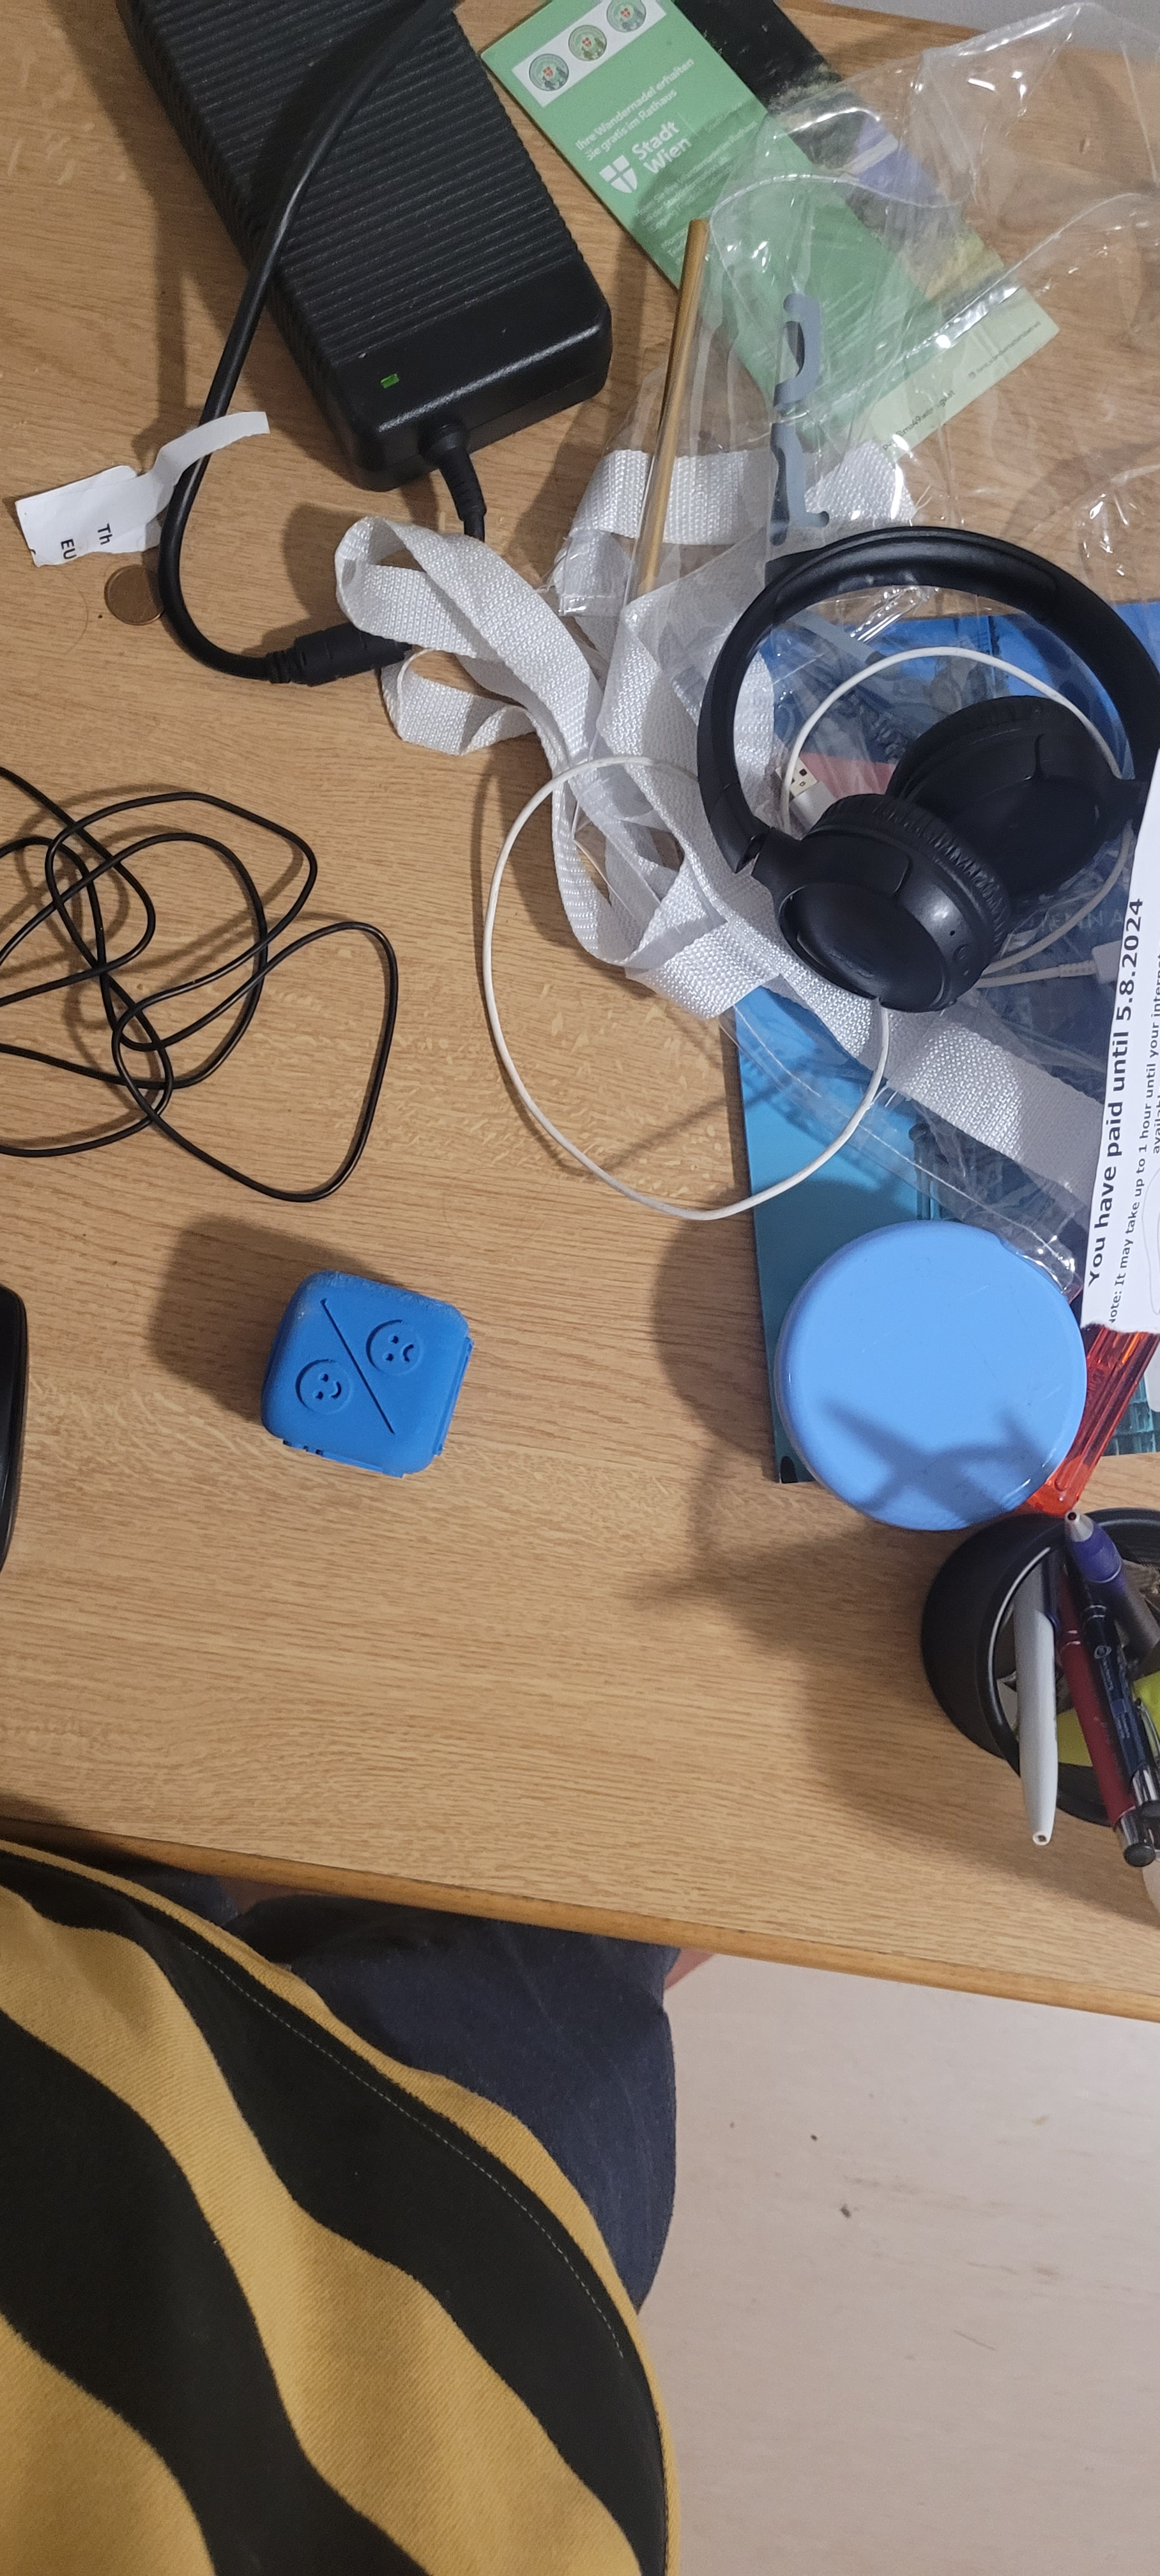Like/Dislike: (261, 1255, 457, 1433)
